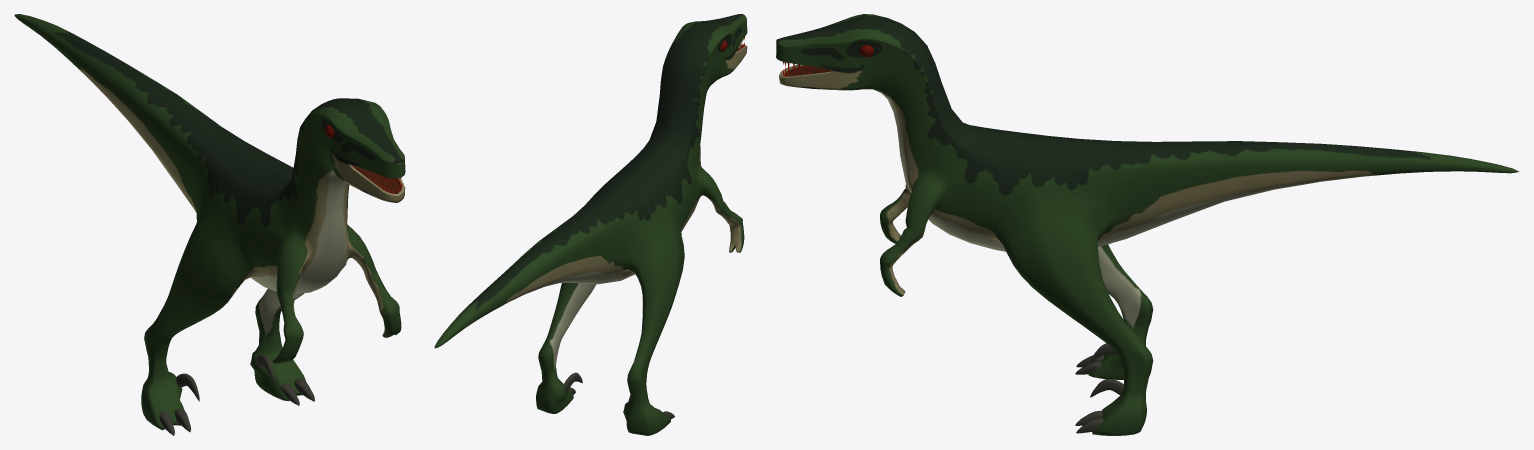
File: velo.gltf
3 views of the same model, side by side, from view 1: azimuth 30°, elevation 25°; view 2: azimuth 150°, elevation 25°; view 3: azimuth 270°, elevation 25° (orthographic). The views are drawn at different scales.
Parts seen in each view (by area): view 1: pCube1; view 2: pCube1; view 3: pCube1.
Part boxes in pixels (x1,y1,x2,y2): pCube1: (14, 14, 405, 430); pCube1: (434, 14, 747, 435); pCube1: (776, 14, 1519, 435).
Size of the model in its own units: 6.19 by 15.55 by 27.55.
4 materials, 1 textured.
